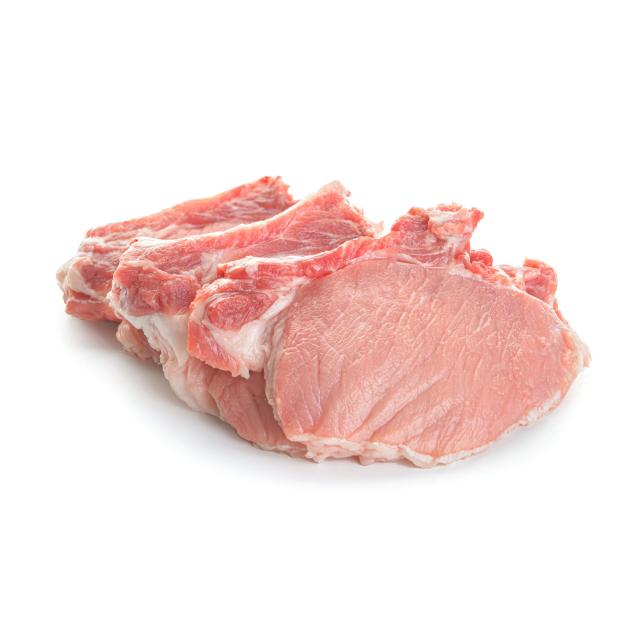pork: (54, 170, 600, 463)
